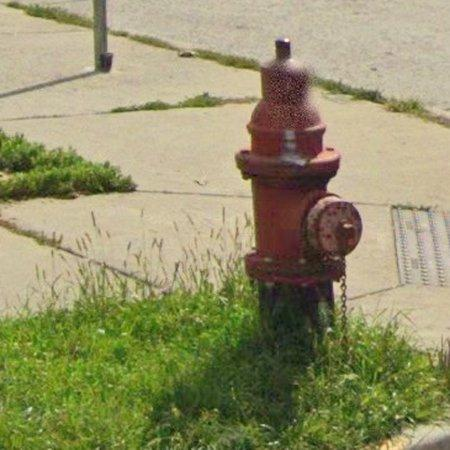a fire hydrant: (236, 39, 363, 341)
